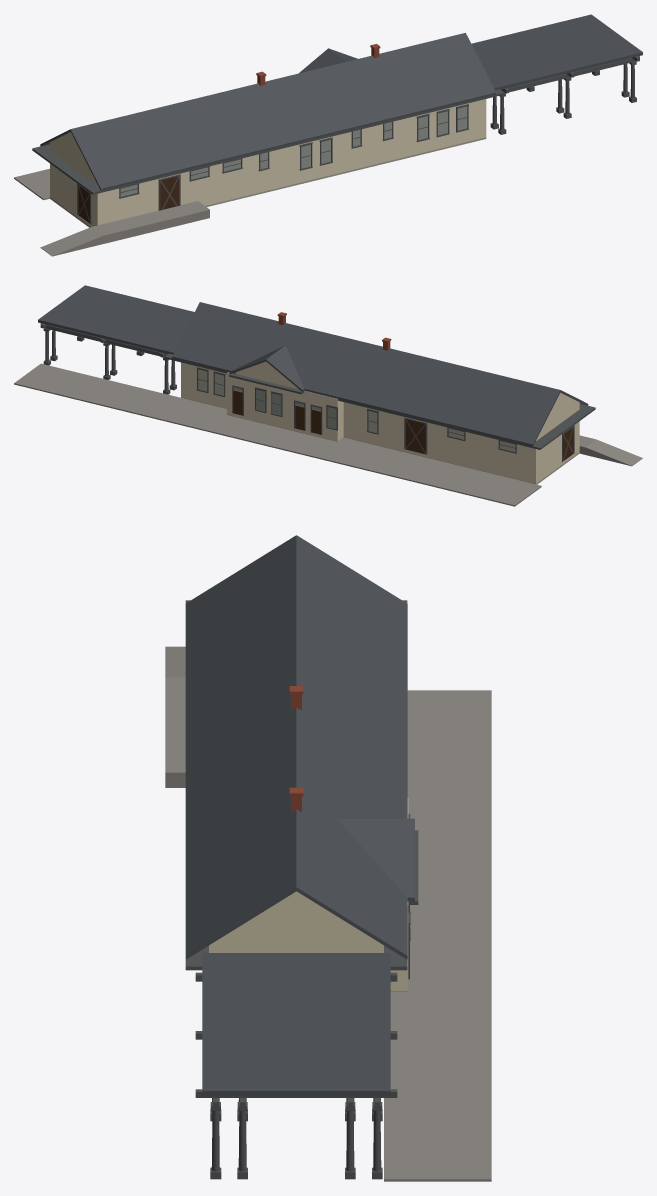
Rendered from Tomahawk_Depot.glb.
3 views of the same model, one above another, from view 1: azimuth 30°, elevation 25°; view 2: azimuth 150°, elevation 25°; view 3: azimuth 270°, elevation 25° (orthographic). The views are drawn at different scales.
Visible parts, largest first — view 1: roof, stucco, trim, platform, glass, sash, doors, foundation; view 2: roof, platform, stucco, trim, doors, glass, sash, foundation; view 3: roof, platform, stucco, trim.
Part boxes in pixels (bbox=[...]): roof: bbox=[40, 14, 642, 190]; stucco: bbox=[50, 99, 486, 226]; trim: bbox=[32, 56, 639, 224]; platform: bbox=[14, 168, 209, 256]; glass: bbox=[121, 107, 466, 196]; sash: bbox=[119, 104, 468, 198]; doors: bbox=[78, 176, 179, 222]; foundation: bbox=[50, 137, 486, 227]; roof: bbox=[38, 285, 588, 446]; platform: bbox=[14, 363, 642, 506]; stucco: bbox=[181, 361, 579, 483]; trim: bbox=[40, 323, 595, 462]; doors: bbox=[233, 390, 573, 460]; glass: bbox=[198, 370, 515, 451]; sash: bbox=[196, 367, 516, 453]; foundation: bbox=[181, 397, 579, 484]; roof: bbox=[185, 535, 414, 1096]; platform: bbox=[165, 646, 491, 1181]; stucco: bbox=[209, 798, 408, 990]; trim: bbox=[185, 600, 418, 1179].
Bounding box in the file's own units: 1.98 × 0.3048 × 0.5097.
